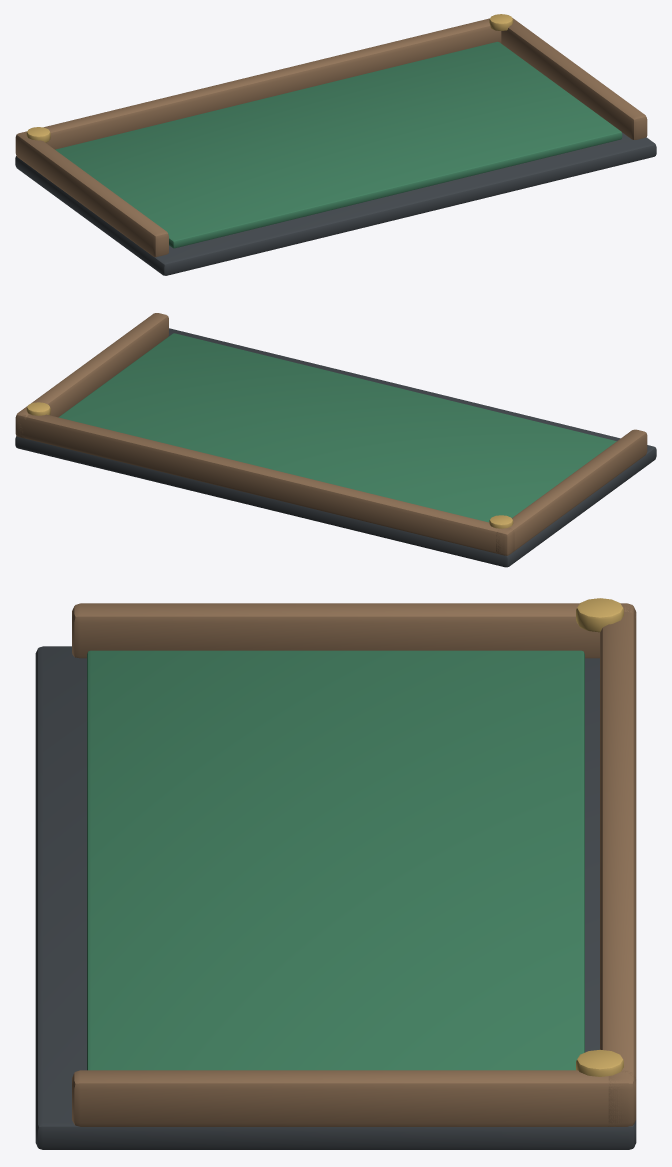
Rendered from checkout_change_handoff_tray.glb.
The picture shows the model from 3 angles, top to bottom: view 1: azimuth 30°, elevation 25°; view 2: azimuth 150°, elevation 25°; view 3: azimuth 270°, elevation 25°; orthographic projection. The views are drawn at different scales.
Visible parts, largest first — view 1: ChangeHandoffTrayFelt, ChangeHandoffTrayBase, ChangeHandoffTrayRailBack, ChangeHandoffTrayRailLeft, ChangeHandoffTrayRailRight; view 2: ChangeHandoffTrayFelt, ChangeHandoffTrayRailBack, ChangeHandoffTrayBase, ChangeHandoffTrayRailLeft, ChangeHandoffTrayRailRight; view 3: ChangeHandoffTrayFelt, ChangeHandoffTrayBase, ChangeHandoffTrayRailRight, ChangeHandoffTrayRailLeft, ChangeHandoffTrayRailBack, ChangeHandoffTrayBrassFastener_01, ChangeHandoffTrayBrassFastener_02.
Part boxes in pixels (left/top/right/bottom): ChangeHandoffTrayFelt: left=55, top=41, right=622, bottom=248; ChangeHandoffTrayBase: left=15, top=132, right=656, bottom=275; ChangeHandoffTrayRailBack: left=23, top=18, right=501, bottom=149; ChangeHandoffTrayRailLeft: left=15, top=131, right=168, bottom=257; ChangeHandoffTrayRailRight: left=501, top=18, right=647, bottom=139; ChangeHandoffTrayFelt: left=58, top=333, right=616, bottom=522; ChangeHandoffTrayRailBack: left=17, top=414, right=514, bottom=555; ChangeHandoffTrayBase: left=15, top=328, right=656, bottom=567; ChangeHandoffTrayRailLeft: left=496, top=429, right=647, bottom=555; ChangeHandoffTrayRailRight: left=15, top=313, right=168, bottom=438; ChangeHandoffTrayFelt: left=87, top=650, right=584, bottom=1070; ChangeHandoffTrayBase: left=35, top=646, right=636, bottom=1149; ChangeHandoffTrayRailRight: left=72, top=1070, right=636, bottom=1126; ChangeHandoffTrayRailLeft: left=72, top=603, right=636, bottom=658; ChangeHandoffTrayRailBack: left=600, top=603, right=636, bottom=1126; ChangeHandoffTrayBrassFastener_01: left=576, top=598, right=623, bottom=632; ChangeHandoffTrayBrassFastener_02: left=576, top=1049, right=623, bottom=1076.
Size of the model in its own units: 0.38 by 0.029 by 0.2.
